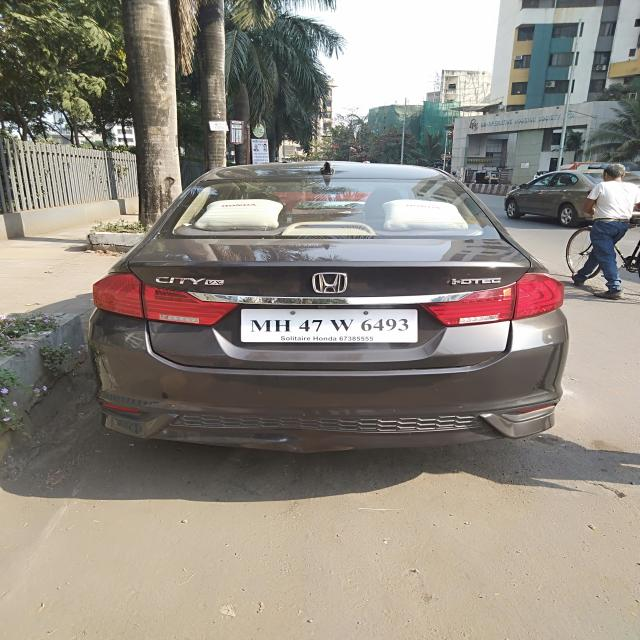Number-Plate: (241, 308, 417, 343)
